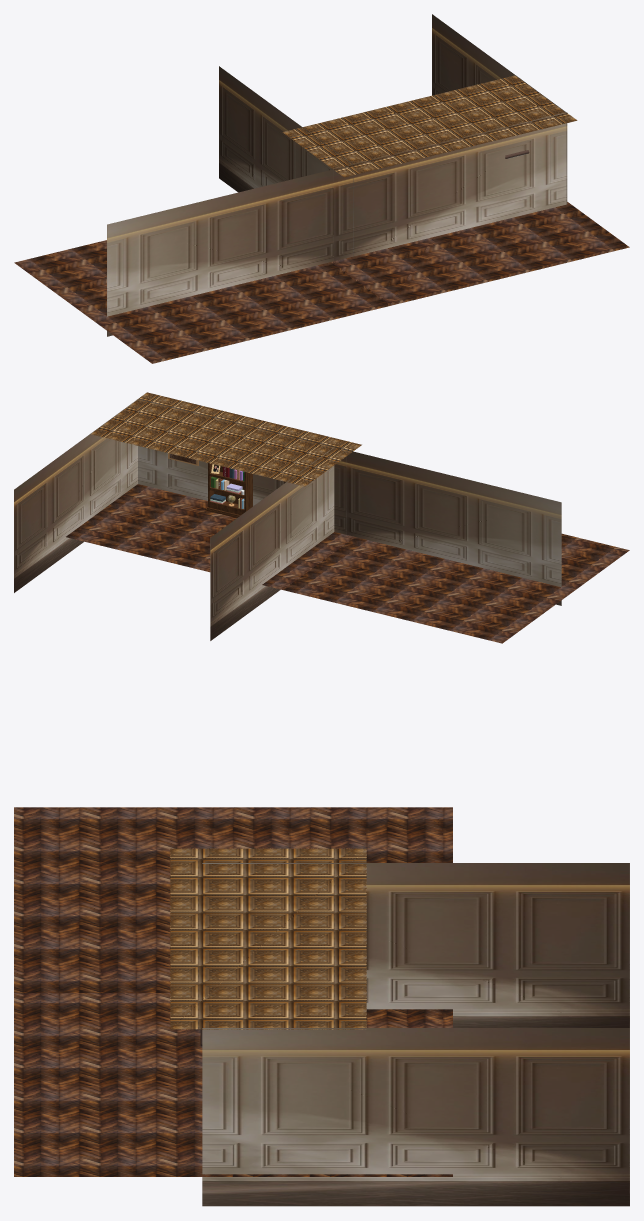
Rendered from bookcase.glb.
3 views of the same model, one above another, from view 1: azimuth 30°, elevation 25°; view 2: azimuth 150°, elevation 25°; view 3: azimuth 270°, elevation 25° (orthographic). The views are drawn at different scales.
Visible parts, largest first — view 1: Plane.006, Plane, Plane.004, Plane.002, Plane.001, Plane.003, Plane.005; view 2: Plane.006, Plane.004, Plane.002, Plane.003, Plane.005, Plane.001, Plane, Bookshelf; view 3: Plane.005, Plane.004, Plane.003, Plane.001, Plane.002.
Boxes of the visible parts, x1,y1,x2,y2 form: Plane.006: (107, 169, 333, 336); Plane: (333, 112, 567, 261); Plane.004: (14, 240, 390, 363); Plane.002: (282, 75, 577, 177); Plane.001: (331, 202, 629, 305); Plane.003: (219, 66, 353, 256); Plane.005: (432, 14, 566, 204); Plane.006: (346, 450, 561, 605); Plane.004: (283, 533, 629, 643); Plane.002: (91, 392, 361, 486); Plane.003: (210, 447, 334, 640); Plane.005: (14, 399, 137, 592); Plane.001: (66, 484, 354, 589); Plane: (138, 399, 346, 534); Bookshelf: (205, 463, 252, 517); Plane.005: (202, 1028, 629, 1206); Plane.004: (14, 807, 452, 992); Plane.003: (202, 863, 629, 1027); Plane.001: (14, 993, 452, 1176); Plane.002: (170, 848, 366, 1029).
Size of the model in its own units: 54.68 by 12.29 by 38.51.
53 materials, 14 textured.
